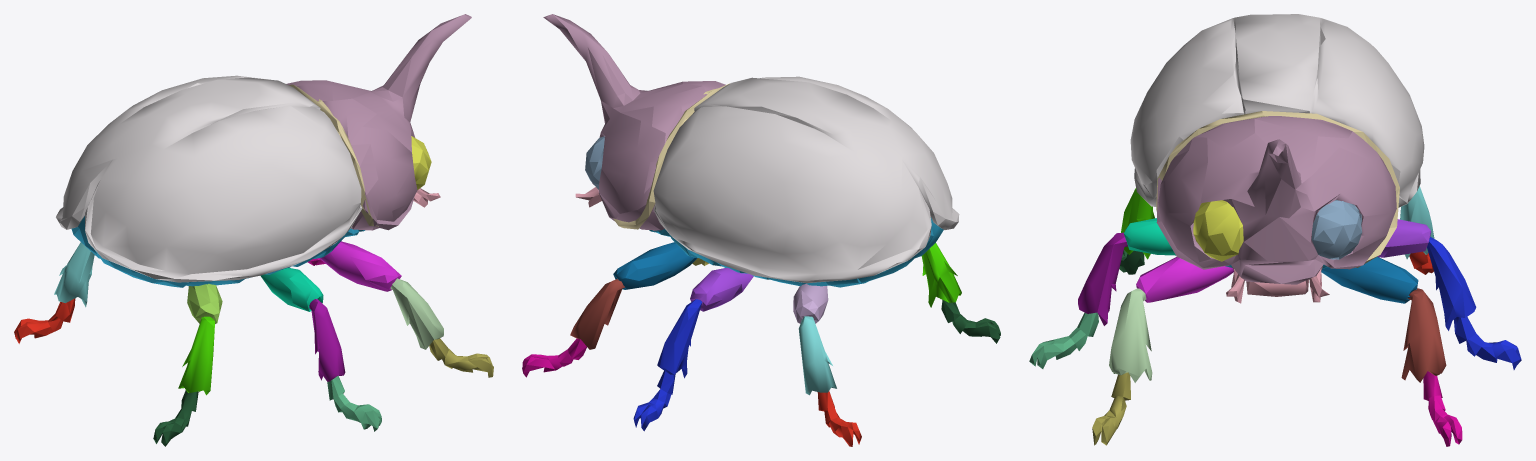
The model's file is Beetle.fbx.
The picture shows the model from 3 angles, left to right: view 1: azimuth 30°, elevation 25°; view 2: azimuth 150°, elevation 25°; view 3: azimuth 270°, elevation 25°; orthographic projection. The views are drawn at different scales.
Parts seen in each view (by area): view 1: part_9; view 2: part_9; view 3: part_9.
Boxes of the visible parts, box(x1,y1,x2,y2) form: part_9: box(14, 14, 493, 446); part_9: box(522, 14, 1000, 446); part_9: box(1029, 14, 1521, 446).
Bounding box in the file's own units: 90.33 × 63.79 × 86.44.
